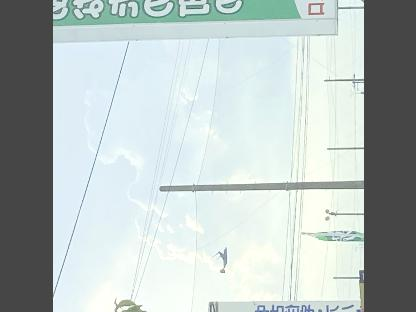Tornado: (210, 247, 226, 273)
